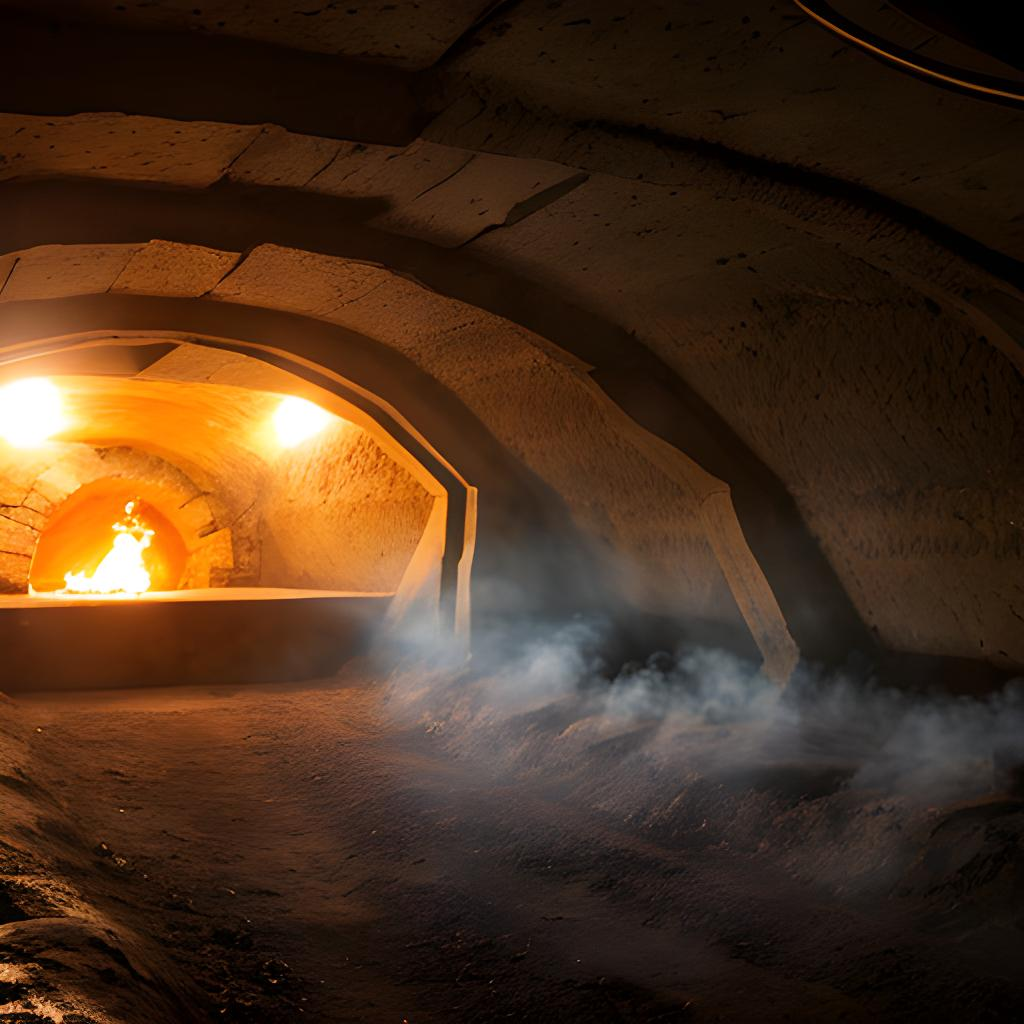fire: (387, 572, 1024, 870), (0, 347, 360, 610)
